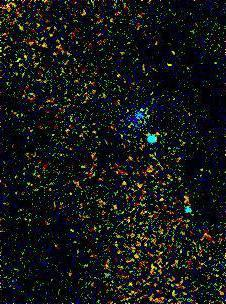star: (155, 48, 185, 78)
